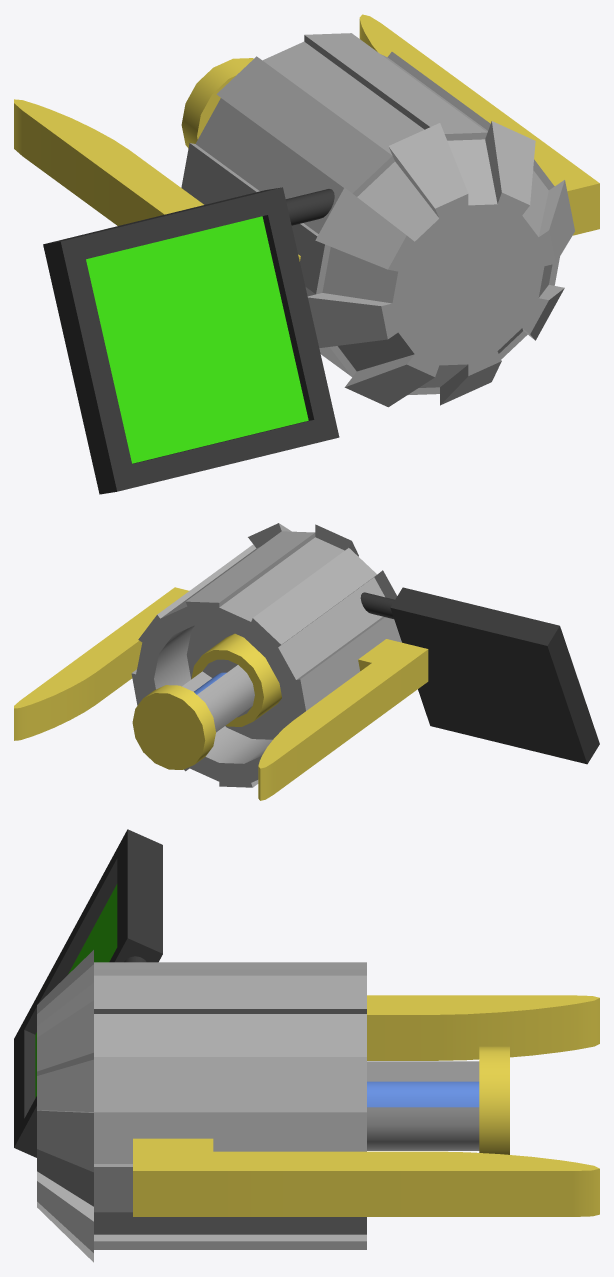
File: XrayExtension.fbx
3 views of the same model, one above another, from view 1: azimuth 30°, elevation 25°; view 2: azimuth 150°, elevation 25°; view 3: azimuth 270°, elevation 25° (orthographic). The views are drawn at different scales.
Visible parts, largest first — view 1: Screen; view 2: Screen; view 3: Screen.
Boxes of the visible parts, x1,y1,x2,y2 form: Screen: (14, 14, 599, 494); Screen: (14, 523, 599, 800); Screen: (14, 829, 599, 1262).
Bounding box in the file's own units: 1.58 × 0.7869 × 1.47.
